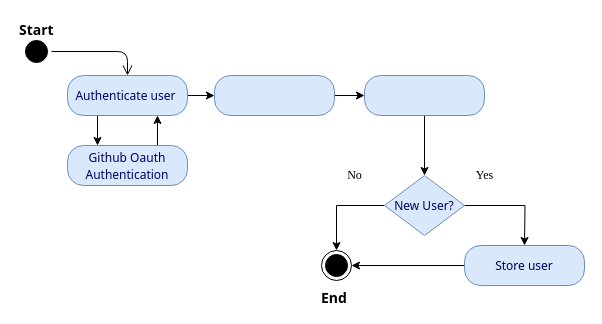
Image size: 602x324. Some labels were removed from this diagram. Each missing label, with the centre of its shape:
"Get JWT token" goes at point (274, 95).
"Validate token" goes at point (424, 95).
